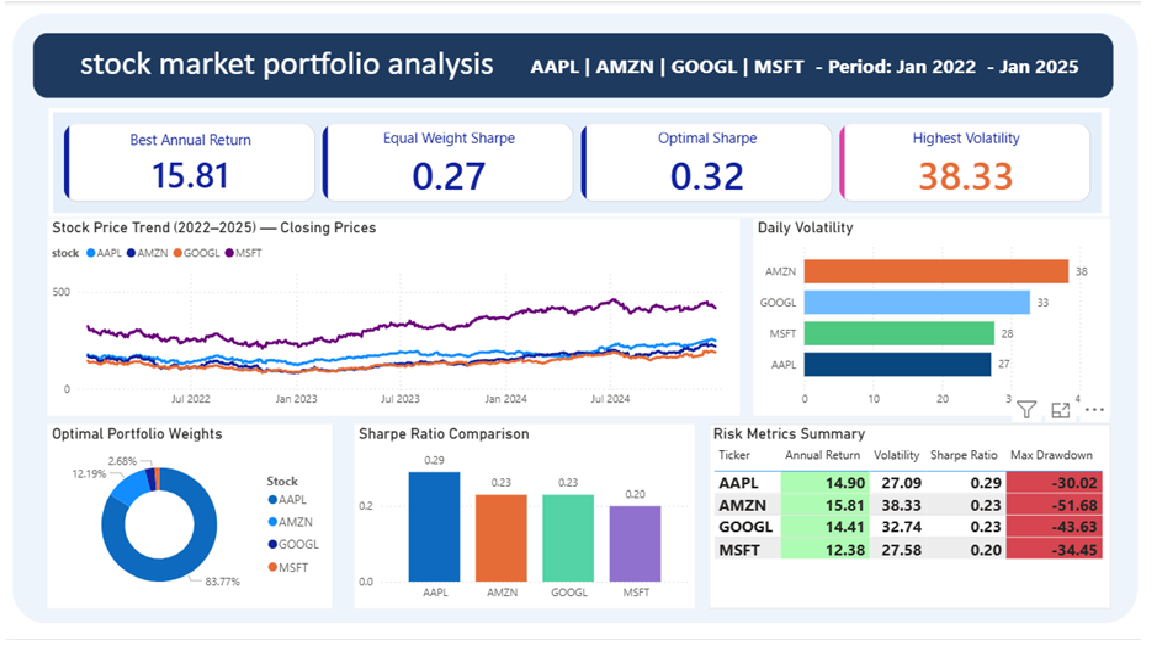

Layout of this report page (visuals, bound fields, positions):
{"tool":"powerbi","page":{"name":"Page 1","canvas":[1280,720],"ordinal":0},"visuals":[{"type":"textbox","box":[61.7,42.5,511.8,56.3],"z":0},{"type":"textbox","box":[555.7,53.5,677.9,45.3],"z":1000},{"type":"cardVisual","fields":{"Data":["optimal_weights.Best Annual Return","optimal_weights.Equal Weight Sharpe","optimal_weights.Optimal Sharpe","optimal_weights.Highest Volatility"]},"box":[52.1,120.8,1181.5,123.5],"z":2000},{"type":"lineChart","title":"Stock Price Trend (2022–2025) — Closing Prices","fields":{"Y":["Sum(stock_prices.price)"],"Series":["stock_prices.stock"],"Category":["stock_prices.Date"]},"box":[51.3,245.2,771.1,222.4],"z":3000},{"type":"clusteredBarChart","title":"Daily Volatility","fields":{"Y":["Sum(risk_summary.Annual Volatility (%))"],"Category":["risk_summary.Ticker"]},"box":[836.7,245.2,397.7,222.4],"z":4000},{"type":"donutChart","title":"Optimal Portfolio Weights","fields":{"Category":["optimal_weights.Stock"],"Y":["Sum(optimal_weights.Optimal Weight (%))"]},"box":[51.3,477.5,316.4,208.1],"z":5000},{"type":"clusteredColumnChart","title":"Sharpe Ratio Comparison","fields":{"Category":["risk_summary.Ticker"],"Y":["Sum(risk_summary.Sharpe Ratio)"]},"box":[392,477.5,379.2,208.1],"z":6000},{"type":"tableEx","title":"Risk Metrics Summary","fields":{"Values":["risk_summary.Ticker","Sum(risk_summary.Annual Return (%))","Sum(risk_summary.Annual Volatility (%))","Sum(risk_summary.Sharpe Ratio)","Sum(risk_summary.Max Drawdown (%))"]},"box":[788.2,477.5,446.1,208.1],"z":7000}]}

Visuals, with their boxes in screenshot pixels (x1, y1, x2, y2), scaled from the page's 1280x720 canvas onto the 1152x648 screenshot:
textbox: <region>56, 38, 516, 89</region>
textbox: <region>500, 48, 1110, 89</region>
cardVisual - optimal_weights.Best Annual Return x optimal_weights.Equal Weight Sharpe: <region>47, 109, 1110, 220</region>
"Stock Price Trend (2022–2025) — Closing Prices" lineChart: <region>46, 221, 740, 421</region>
"Daily Volatility" clusteredBarChart: <region>753, 221, 1111, 421</region>
"Optimal Portfolio Weights" donutChart: <region>46, 430, 331, 617</region>
"Sharpe Ratio Comparison" clusteredColumnChart: <region>353, 430, 694, 617</region>
"Risk Metrics Summary" tableEx: <region>709, 430, 1111, 617</region>
